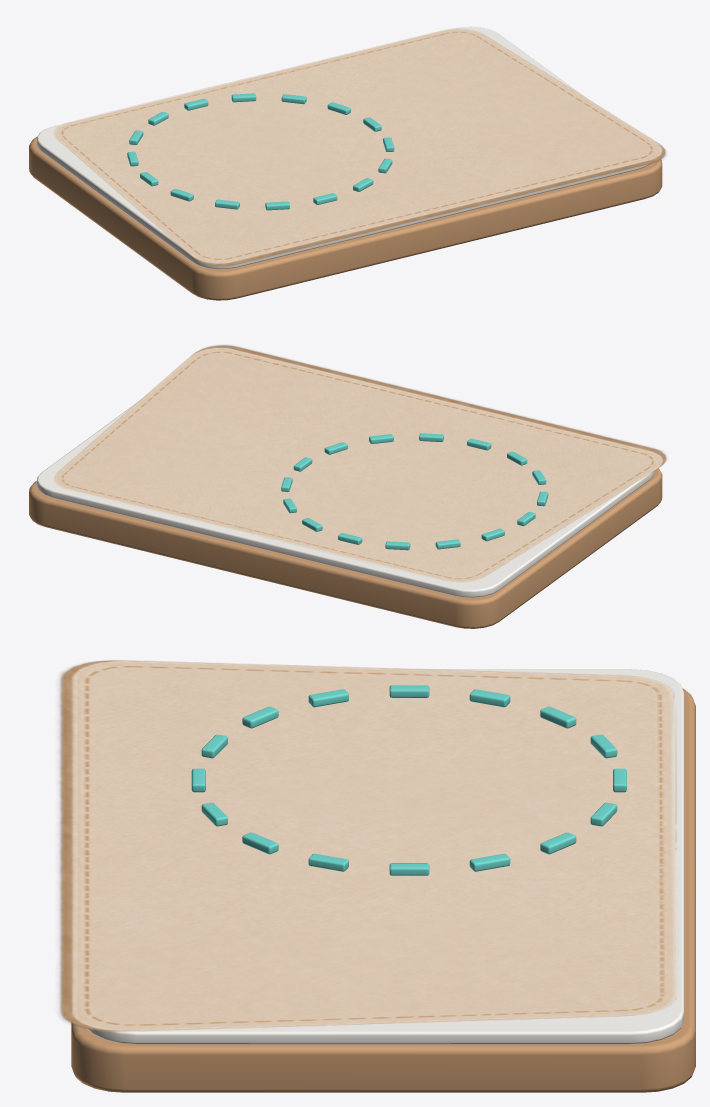
Rendered from prep_mat.glb.
The picture shows the model from 3 angles, top to bottom: view 1: azimuth 30°, elevation 25°; view 2: azimuth 150°, elevation 25°; view 3: azimuth 270°, elevation 25°; orthographic projection. The views are drawn at different scales.
Visible parts, largest first — view 1: Fabric, Wood, Cream, Mint; view 2: Fabric, Wood, Cream, Mint; view 3: Fabric, Wood, Cream, Mint.
Part boxes in pixels (<box>): Fabric: <box>54,28,666,266</box>; Wood: <box>29,136,662,300</box>; Cream: <box>36,26,650,269</box>; Mint: <box>127,93,394,210</box>; Fabric: <box>54,345,666,582</box>; Wood: <box>29,468,662,628</box>; Cream: <box>36,399,654,597</box>; Mint: <box>281,433,548,550</box>; Fabric: <box>58,660,677,1031</box>; Wood: <box>71,688,695,1092</box>; Cream: <box>86,669,684,1044</box>; Mint: <box>191,685,626,875</box>.
Size of the model in its own units: 0.382 by 0.034 by 0.2915.
Materials: 4 (1 with a texture image).
